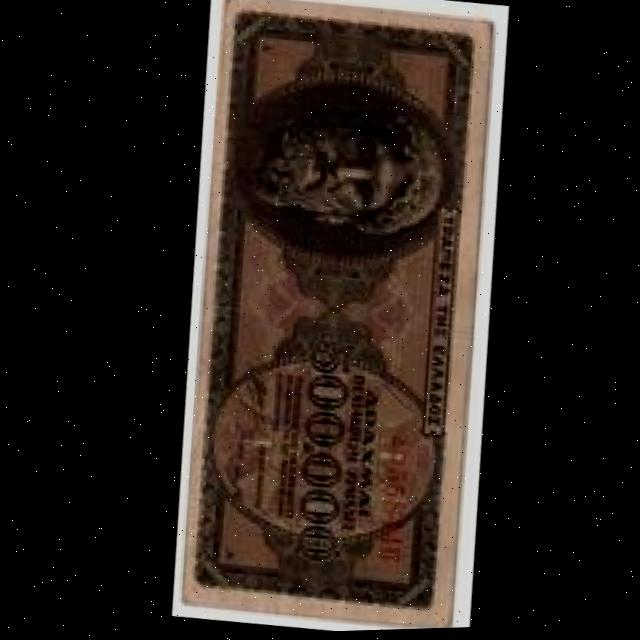banknote: (142, 0, 520, 637), (263, 338, 361, 570)
